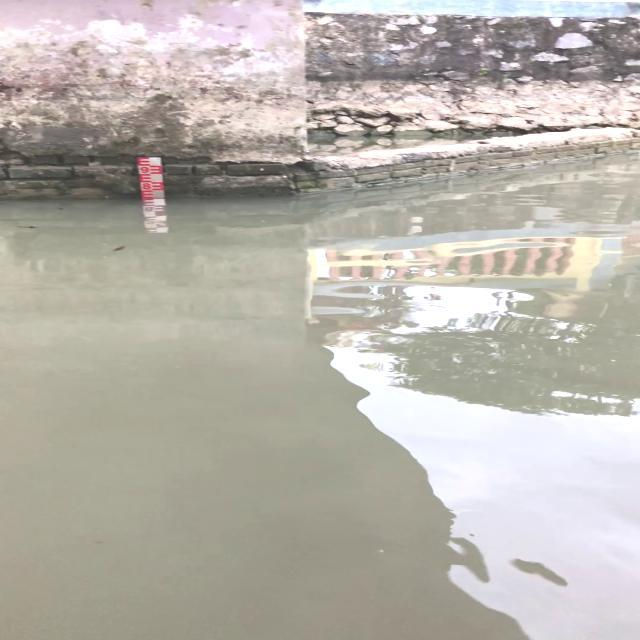ruler: (131, 148, 175, 208)
value: (139, 181, 153, 192), (138, 164, 150, 176)
